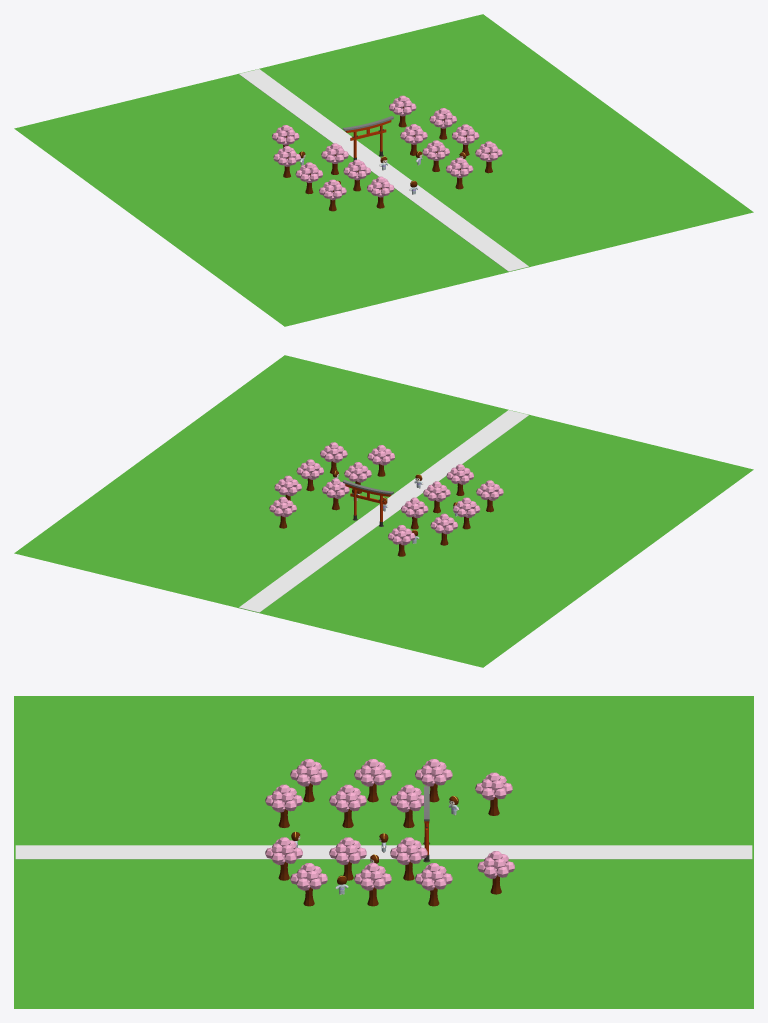
File: sakura-park.glb
The picture shows the model from 3 angles, top to bottom: view 1: azimuth 30°, elevation 25°; view 2: azimuth 150°, elevation 25°; view 3: azimuth 270°, elevation 25°; orthographic projection. The views are drawn at different scales.
Parts seen in each view (by area): view 1: pPlane2, pPlane3; view 2: pPlane2, pPlane3; view 3: pPlane2, pPlane3.
Part boxes in pixels (x1=…): pPlane2: x1=14, y1=14, x2=753, y2=326; pPlane3: x1=239, y1=69, x2=528, y2=271; pPlane2: x1=14, y1=355, x2=753, y2=667; pPlane3: x1=239, y1=410, x2=528, y2=612; pPlane2: x1=14, y1=696, x2=753, y2=1008; pPlane3: x1=15, y1=845, x2=752, y2=859.
Bounding box in the file's own units: 322 × 23.82 × 322.
Materials: 17 (7 with a texture image).
